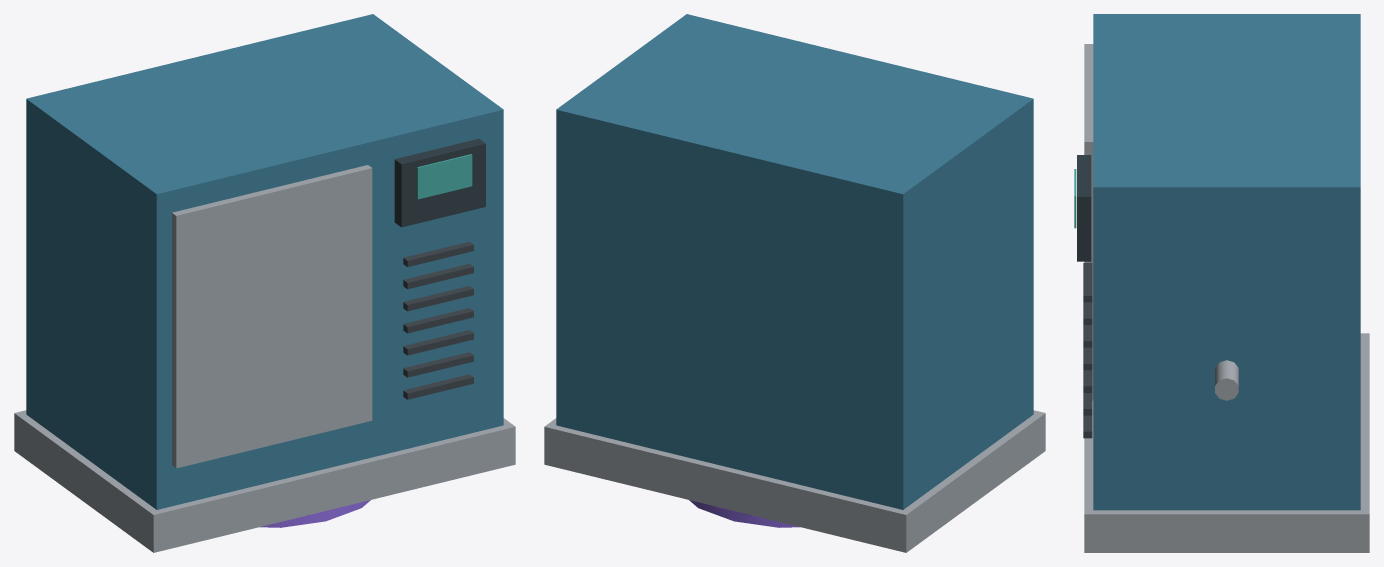
The picture shows the model from 3 angles, left to right: view 1: azimuth 30°, elevation 25°; view 2: azimuth 150°, elevation 25°; view 3: azimuth 270°, elevation 25°; orthographic projection. The views are drawn at different scales.
Parts seen in each view (by area): view 1: enclosure, servicePanel, base, control, screen, visualRotor, vent5, vent0, vent1, vent3, vent4, vent6 (+1 smaller); view 2: enclosure, base, visualRotor; view 3: enclosure, base, servicePanel, control, outlet, vent6.
Boxes of the visible parts, x1=… form: enclosure: x1=26, y1=14, x2=503, y2=509; servicePanel: x1=172, y1=165, x2=372, y2=468; base: x1=14, y1=410, x2=515, y2=552; control: x1=394, y1=138, x2=485, y2=227; screen: x1=417, y1=154, x2=472, y2=199; visualRotor: x1=260, y1=500, x2=370, y2=527; vent5: x1=403, y1=263, x2=473, y2=289; vent0: x1=403, y1=374, x2=473, y2=399; vent1: x1=403, y1=352, x2=473, y2=377; vent3: x1=403, y1=308, x2=473, y2=333; vent4: x1=403, y1=286, x2=473, y2=311; vent6: x1=403, y1=241, x2=473, y2=267; enclosure: x1=556, y1=14, x2=1033, y2=509; base: x1=544, y1=410, x2=1045, y2=552; visualRotor: x1=689, y1=500, x2=799, y2=527; enclosure: x1=1093, y1=14, x2=1360, y2=510; base: x1=1084, y1=333, x2=1369, y2=552; servicePanel: x1=1084, y1=44, x2=1093, y2=400; control: x1=1077, y1=155, x2=1091, y2=261; outlet: x1=1215, y1=360, x2=1238, y2=400; vent6: x1=1083, y1=263, x2=1092, y2=302.
Size of the model in its own units: 1.3 by 1.18 by 0.8275.
